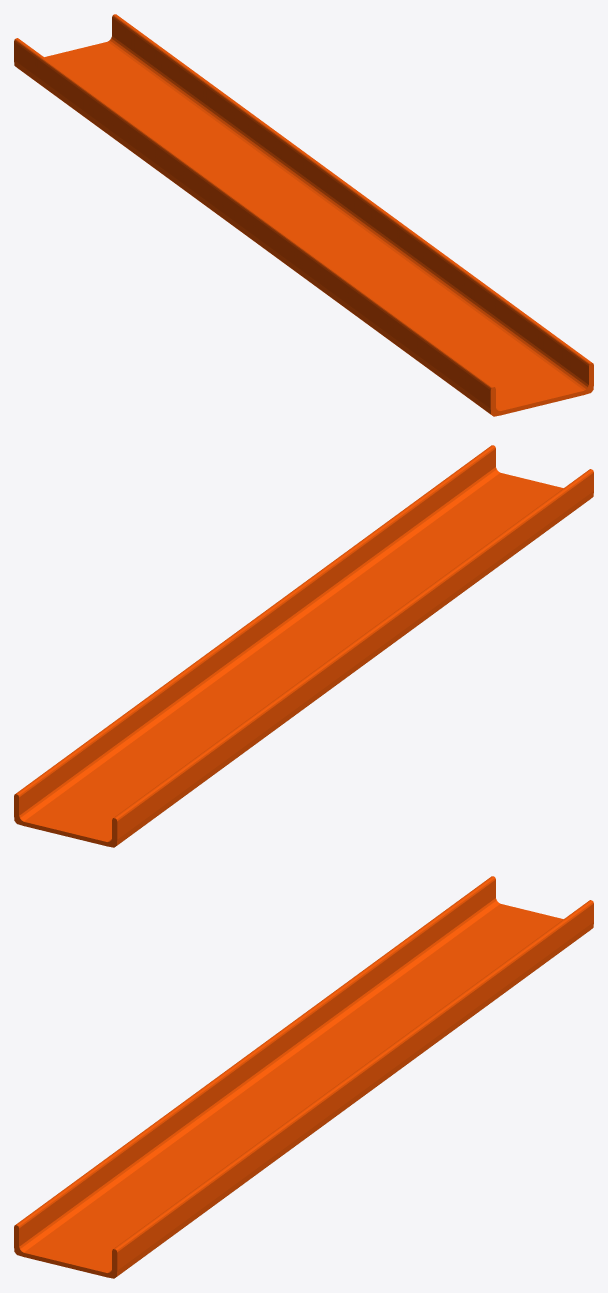
File: Reta.FBX
3 renders of one model, top to bottom at view 1: azimuth 30°, elevation 25°; view 2: azimuth 150°, elevation 25°; view 3: azimuth 330°, elevation 25°, orthographic.
Parts seen in each view (by area): view 1: Reta; view 2: Reta; view 3: Reta.
Boxes of the visible parts, left/top/right/bottom form: Reta: left=14, top=14, right=593, bottom=416; Reta: left=14, top=445, right=593, bottom=847; Reta: left=14, top=876, right=593, bottom=1278.
Size of the model in its own units: 250 by 69.33 by 2000.
